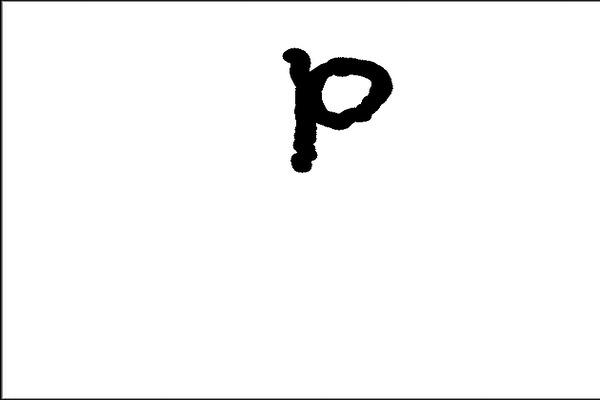P: (267, 34, 398, 189)
